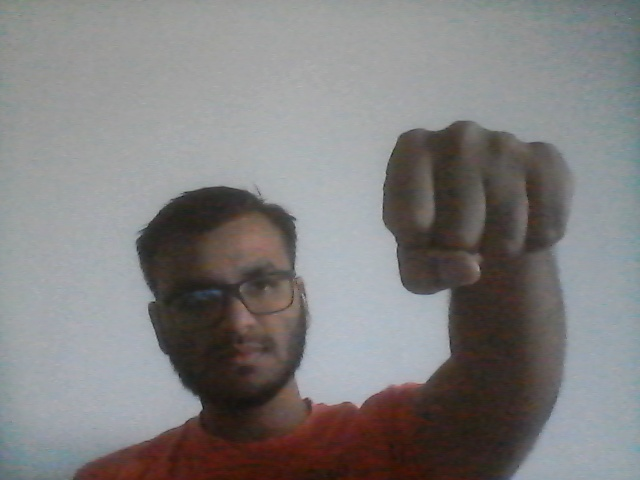Thanks: (375, 118, 588, 296)
